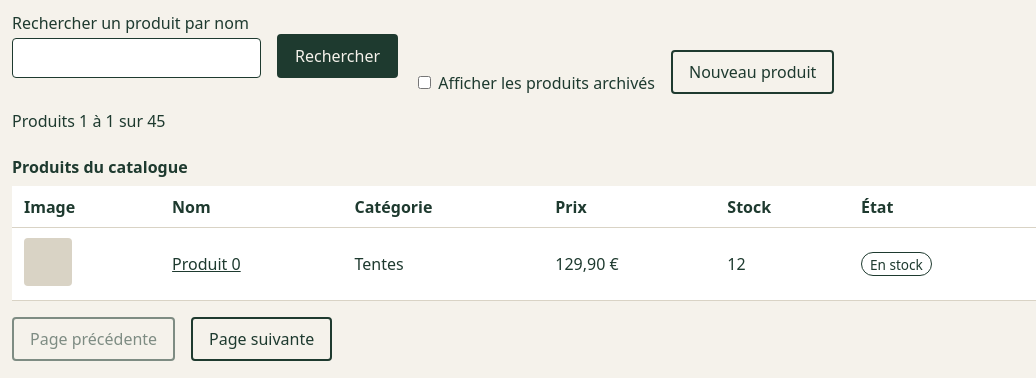
Test: ProductList › pagine : page suivante puis précédente, boutons désactivés aux extrémités
The image size is (1036, 378).
Check: the table is shown, box top-left (12, 148), bottom-right (1035, 301)
Check: the button "Page précédente" is disabled, box top-left (12, 317), bottom-right (175, 361)
Click the button "Page suivante": (262, 339) top-left (191, 317), bottom-right (332, 361)
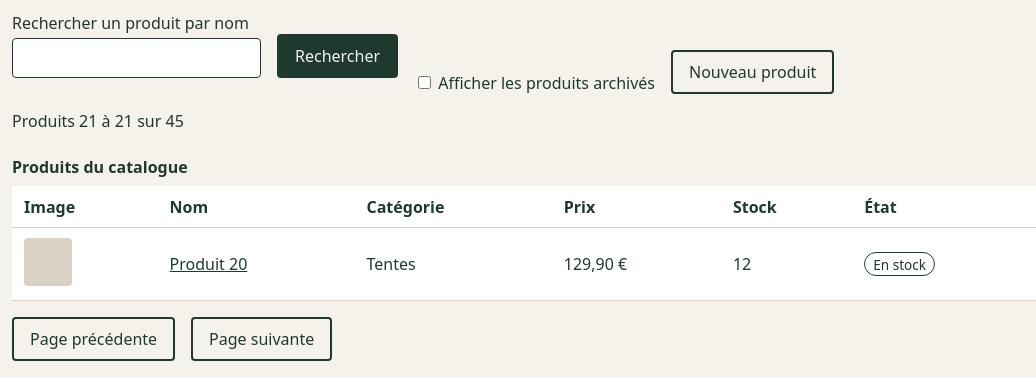
Check: the link "Produit 20" is shown, box top-left (170, 253), bottom-right (247, 275)
Click the button "Page suivante": (262, 339) top-left (191, 317), bottom-right (332, 361)
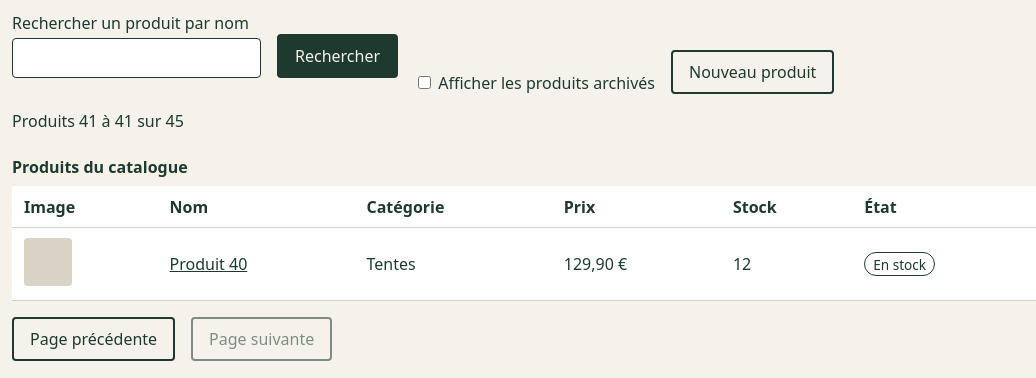
Check: the link "Produit 40" is shown, box top-left (170, 253), bottom-right (247, 275)
Check: the button "Page suivante" is disabled, box top-left (191, 317), bottom-right (332, 361)
Click the button "Page précédente": (94, 339) top-left (12, 317), bottom-right (175, 361)
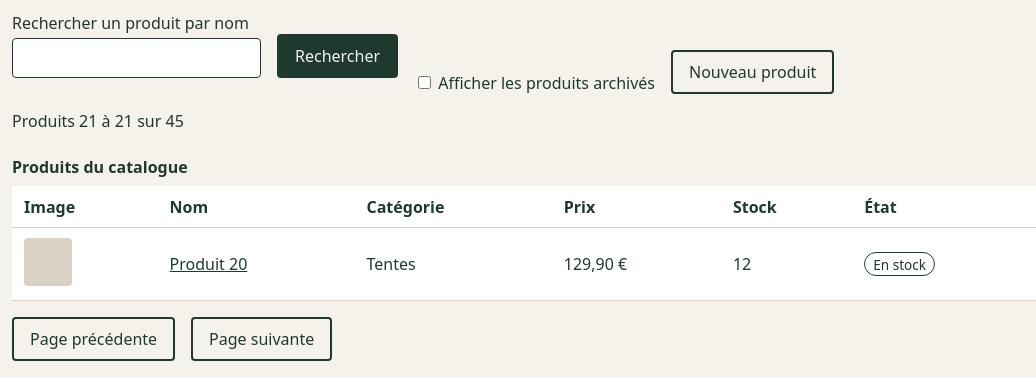
Check: the link "Produit 20" is shown, box top-left (170, 253), bottom-right (247, 275)
